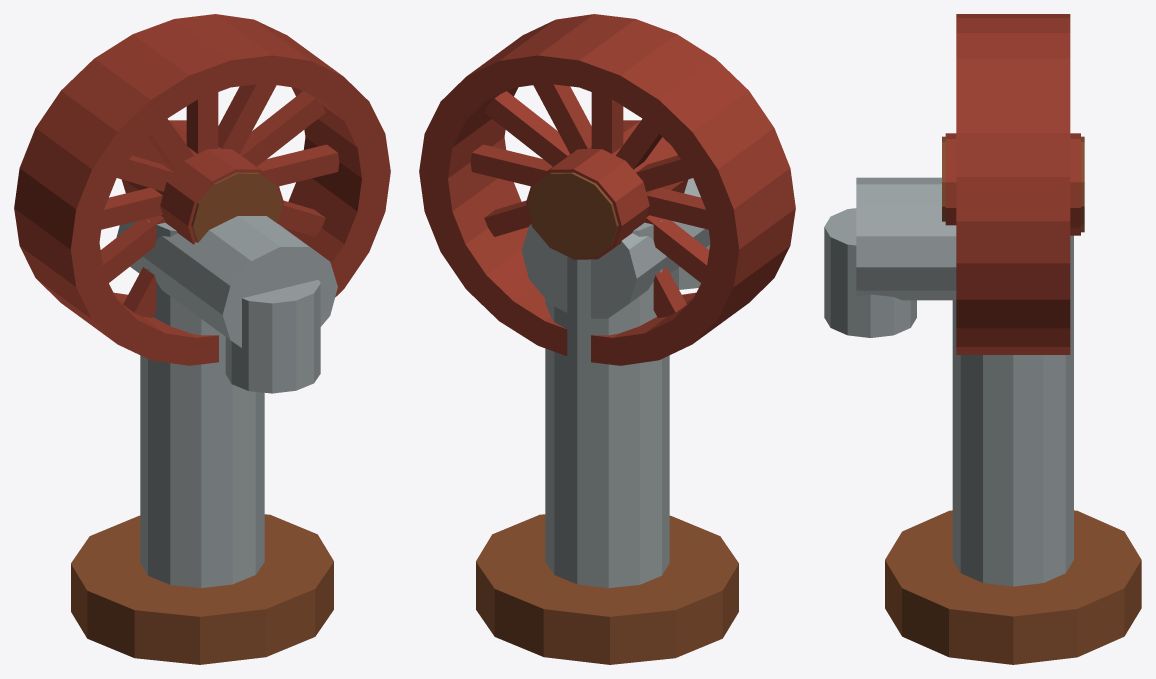
The model's file is FARM_WATER_VALVE_LODs.fbx.
3 views of the same model, side by side, from view 1: azimuth 30°, elevation 25°; view 2: azimuth 150°, elevation 25°; view 3: azimuth 270°, elevation 25° (orthographic).
Parts seen in each view (by area): view 1: FARM_WATER_VALVE_LOD0; view 2: FARM_WATER_VALVE_LOD0; view 3: FARM_WATER_VALVE_LOD0.
Part boxes in pixels (<box>): FARM_WATER_VALVE_LOD0: <box>14,14,390,664</box>; FARM_WATER_VALVE_LOD0: <box>419,14,795,664</box>; FARM_WATER_VALVE_LOD0: <box>824,14,1141,664</box>.
Size of what is drawn, in the model's own units: 0.54 by 0.92 by 0.46.
